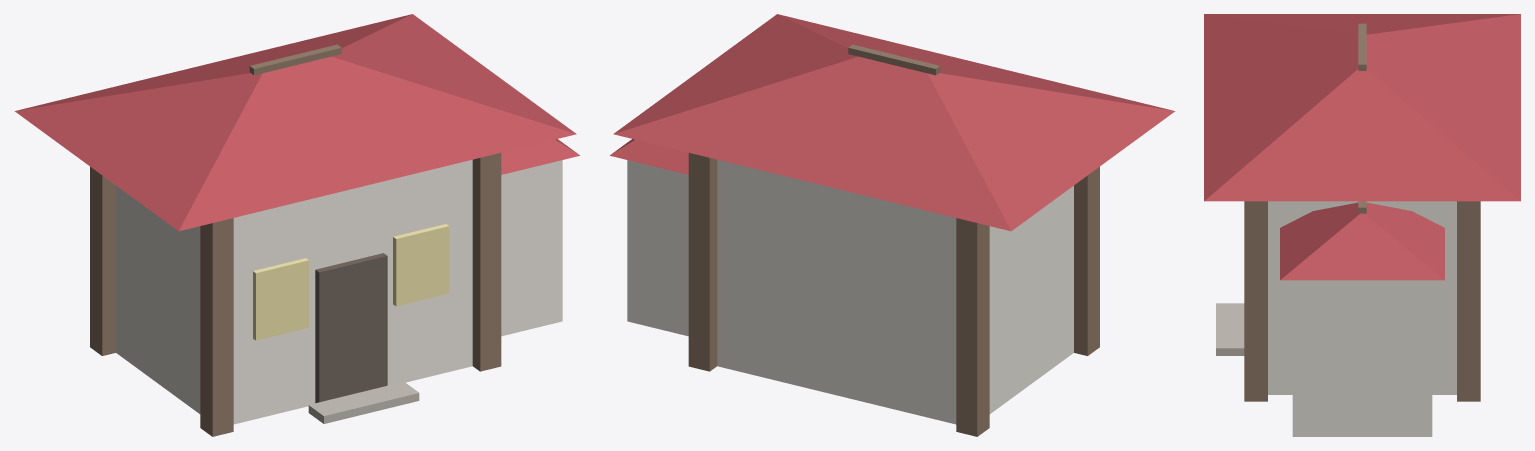
File: residential_b.glb
3 views of the same model, side by side, from view 1: azimuth 30°, elevation 25°; view 2: azimuth 150°, elevation 25°; view 3: azimuth 270°, elevation 25° (orthographic). The views are drawn at different scales.
Size of the model in its own units: 5.82 by 3.78 by 3.75.
